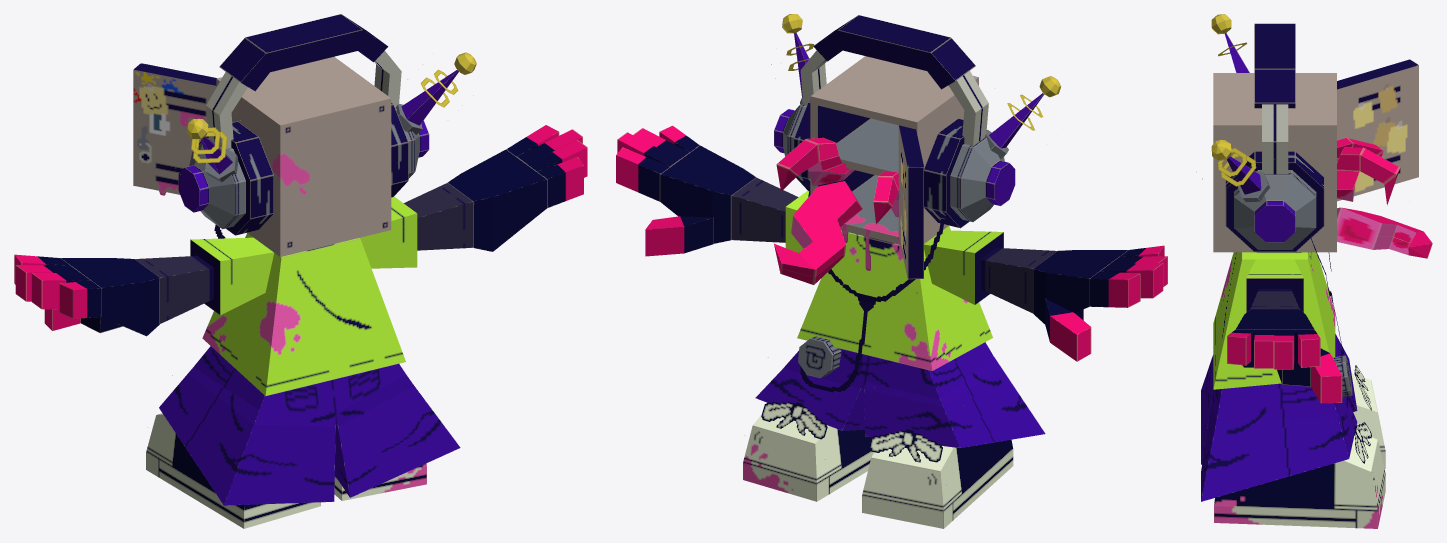
The model's file is Emerz35 v3.obj.
3 renders of one model, left to right at view 1: azimuth 30°, elevation 25°; view 2: azimuth 150°, elevation 25°; view 3: azimuth 270°, elevation 25°, orthographic. The views are drawn at different scales.
Parts seen in each view (by area): view 1: cuboid, cylinder, pyramid, plane, sphere; view 2: cuboid, cylinder, plane, pyramid, sphere; view 3: cuboid, cylinder, plane, pyramid, sphere.
Boxes of the visible parts, <box> form: cuboid: <box>14,14,587,528</box>; cylinder: <box>178,102,429,235</box>; pyramid: <box>201,70,458,174</box>; plane: <box>172,64,473,375</box>; sphere: <box>186,52,476,139</box>; cuboid: <box>616,15,1167,528</box>; cylinder: <box>774,98,1015,378</box>; plane: <box>744,43,1042,485</box>; pyramid: <box>794,32,1044,148</box>; sphere: <box>782,14,1061,97</box>; cuboid: <box>1201,23,1432,528</box>; cylinder: <box>1225,151,1352,397</box>; plane: <box>1196,42,1371,463</box>; pyramid: <box>1224,33,1261,194</box>; sphere: <box>1211,14,1231,160</box>.
Bounding box in the file's own units: 2.35 × 1.82 × 0.8979.
Materials: 1 (1 with a texture image).
